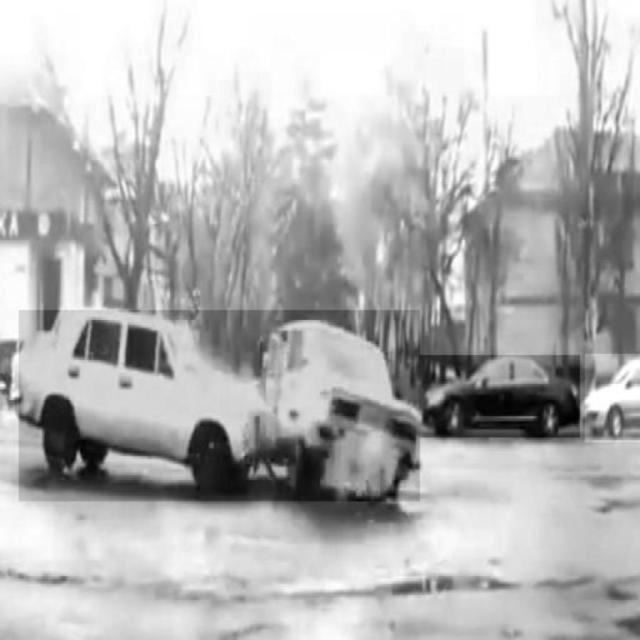accident: (19, 310, 420, 500)
vehicle: (419, 355, 579, 438), (585, 354, 640, 442)
